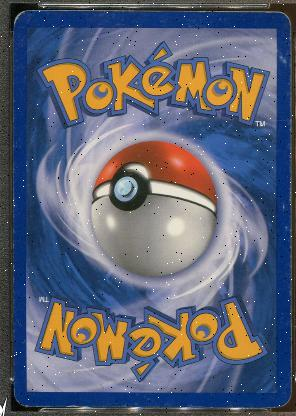Card: (9, 6, 293, 410)
Corner Wear: (265, 376, 292, 410), (11, 382, 39, 410), (11, 9, 36, 37), (266, 10, 291, 38), (24, 404, 79, 406)
Edge Wear: (11, 39, 16, 395), (287, 22, 291, 394), (32, 10, 278, 16), (98, 404, 127, 408)
Scratch: (133, 392, 185, 406), (273, 42, 288, 70), (277, 196, 287, 236), (213, 15, 238, 25), (154, 13, 171, 27), (272, 118, 285, 121), (20, 338, 25, 344)
